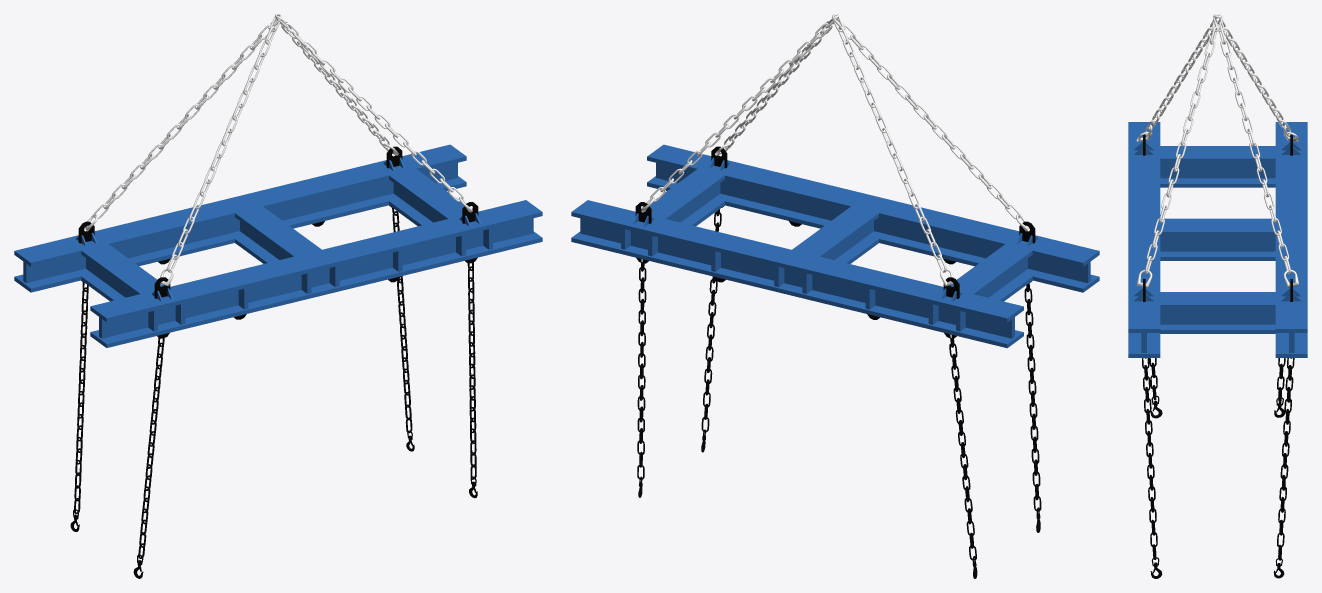
The picture shows the model from 3 angles, left to right: view 1: azimuth 30°, elevation 25°; view 2: azimuth 150°, elevation 25°; view 3: azimuth 270°, elevation 25°; orthographic projection. The views are drawn at different scales.
Visible parts, largest first — view 1: pasted__DiaoJu; view 2: pasted__DiaoJu; view 3: pasted__DiaoJu.
Boxes of the visible parts, left/top/right/bottom form: pasted__DiaoJu: left=14, top=14, right=542, bottom=578; pasted__DiaoJu: left=571, top=14, right=1099, bottom=578; pasted__DiaoJu: left=1128, top=14, right=1307, bottom=578.
Bounding box in the file's own units: 368 × 403 × 135.
